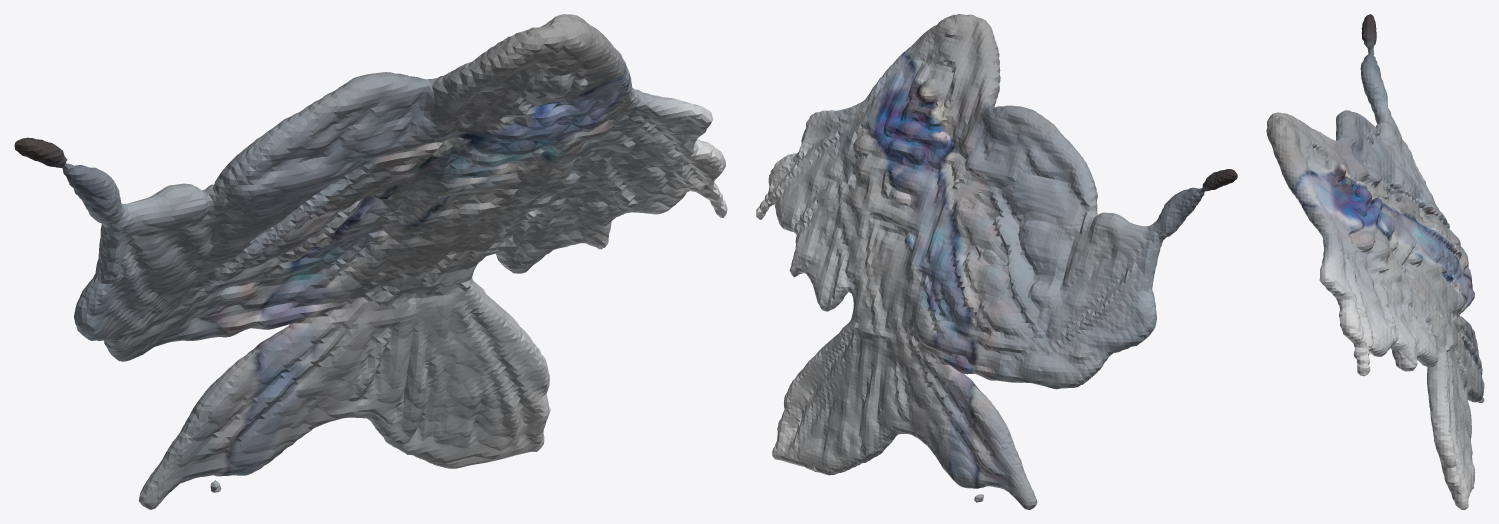
The model's file is echo-silver.glb.
The picture shows the model from 3 angles, left to right: view 1: azimuth 30°, elevation 25°; view 2: azimuth 150°, elevation 25°; view 3: azimuth 270°, elevation 25°; orthographic projection. The views are drawn at different scales.
Parts seen in each view (by area): view 1: world; view 2: world; view 3: world.
Boxes of the visible parts, x1,y1,x2,y2 form: world: (14,14,727,509); world: (756,14,1237,509); world: (1266,14,1484,509).
Size of the model in its own units: 0.9886 by 0.7653 by 0.4255.
